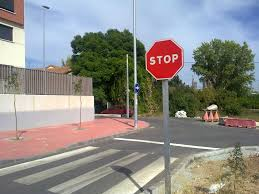stop: (142, 36, 188, 82)
